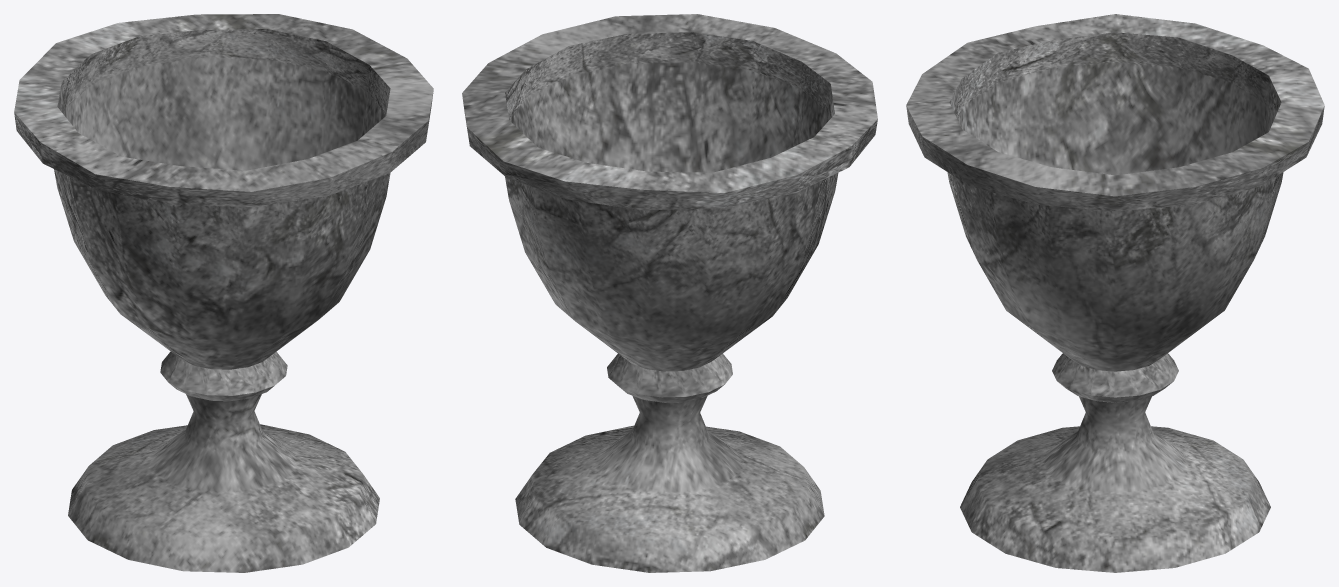
Rendered from materials_3_cup_0.fbx.
The picture shows the model from 3 angles, left to right: view 1: azimuth 30°, elevation 25°; view 2: azimuth 150°, elevation 25°; view 3: azimuth 270°, elevation 25°; orthographic projection.
Parts seen in each view (by area): view 1: materials_3_cup_0; view 2: materials_3_cup_0; view 3: materials_3_cup_0.
Boxes of the visible parts, box(x1,y1,x2,y2) form: materials_3_cup_0: box(14, 14, 433, 572); materials_3_cup_0: box(462, 14, 877, 572); materials_3_cup_0: box(906, 14, 1324, 572).
Bounding box in the file's own units: 36.84 × 39.31 × 36.84.
